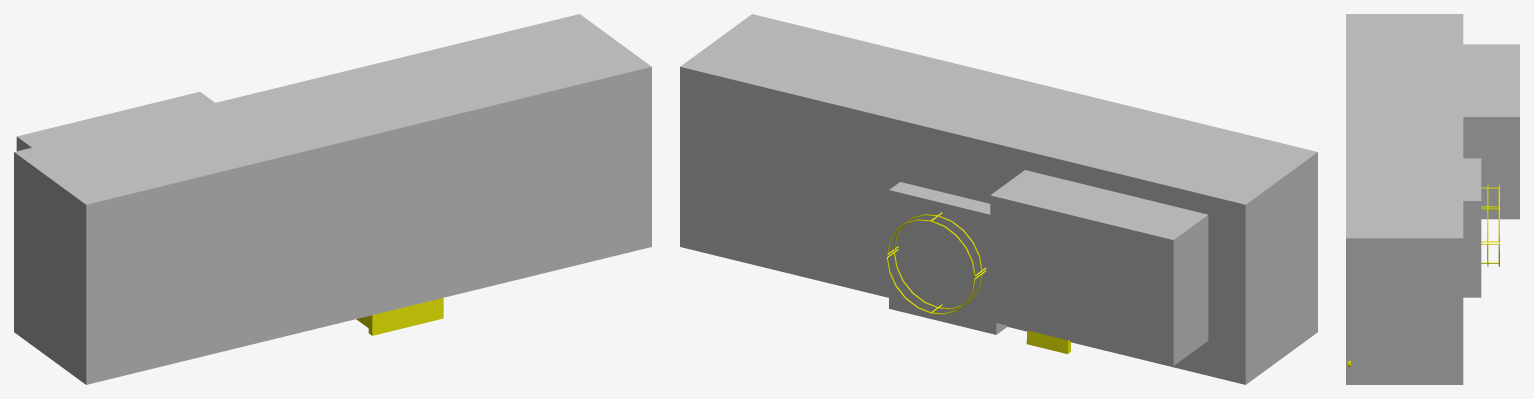
Rendered from sm_hana_bas_absorption_chiller.glb.
The picture shows the model from 3 angles, left to right: view 1: azimuth 30°, elevation 25°; view 2: azimuth 150°, elevation 25°; view 3: azimuth 270°, elevation 25°; orthographic projection. The views are drawn at different scales.
Parts seen in each view (by area): view 1: sm_color_common, sm_hana_bas_absorption_chiller; view 2: sm_color_common, sm_hana_bas_absorption_chiller; view 3: sm_color_common, sm_hana_bas_absorption_chiller.
Boxes of the visible parts, bbox=[...] form: sm_color_common: bbox=[14, 14, 651, 384]; sm_hana_bas_absorption_chiller: bbox=[356, 298, 443, 335]; sm_color_common: bbox=[680, 14, 1317, 384]; sm_hana_bas_absorption_chiller: bbox=[886, 212, 1070, 353]; sm_color_common: bbox=[1346, 14, 1519, 384]; sm_hana_bas_absorption_chiller: bbox=[1348, 184, 1499, 366].
Size of the model in its own units: 6.81 by 2.32 by 2.22.
2 materials, 1 textured.
